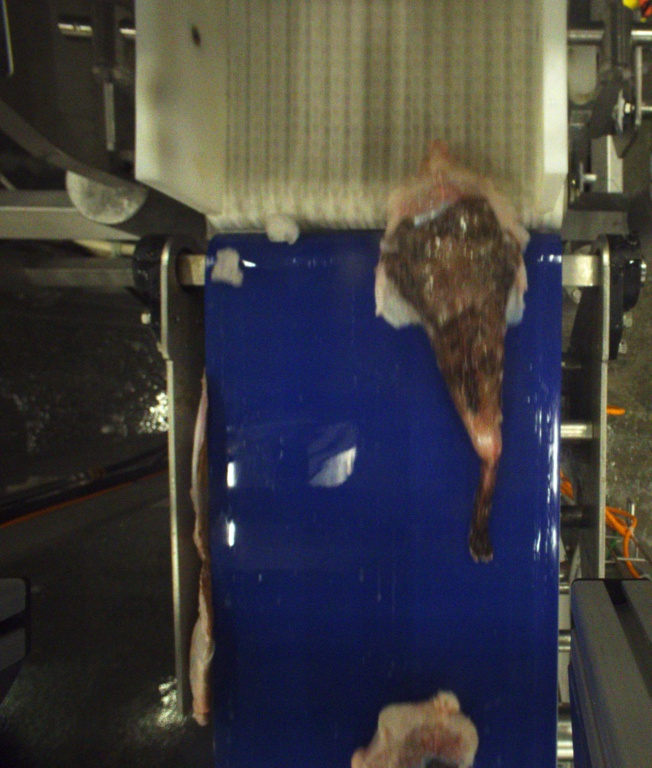ANF: (371, 143, 525, 565)
